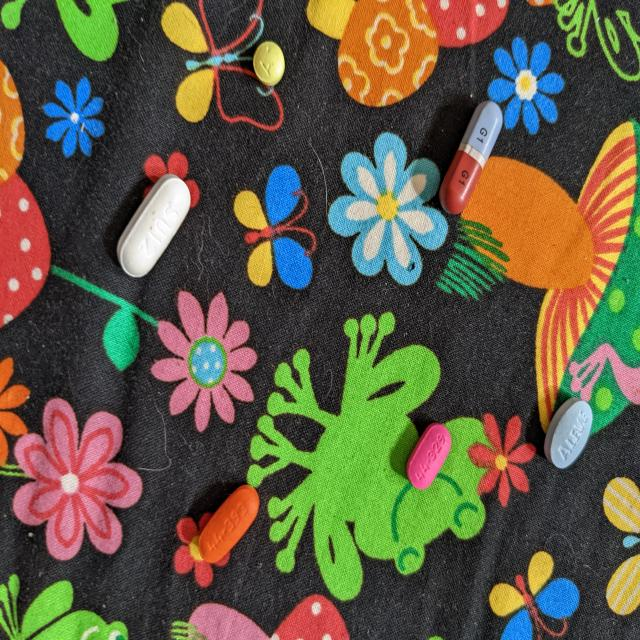non-organic waste: (116, 172, 192, 280), (438, 99, 504, 216), (197, 483, 260, 564), (543, 396, 593, 471), (405, 420, 452, 491), (252, 40, 286, 88)
